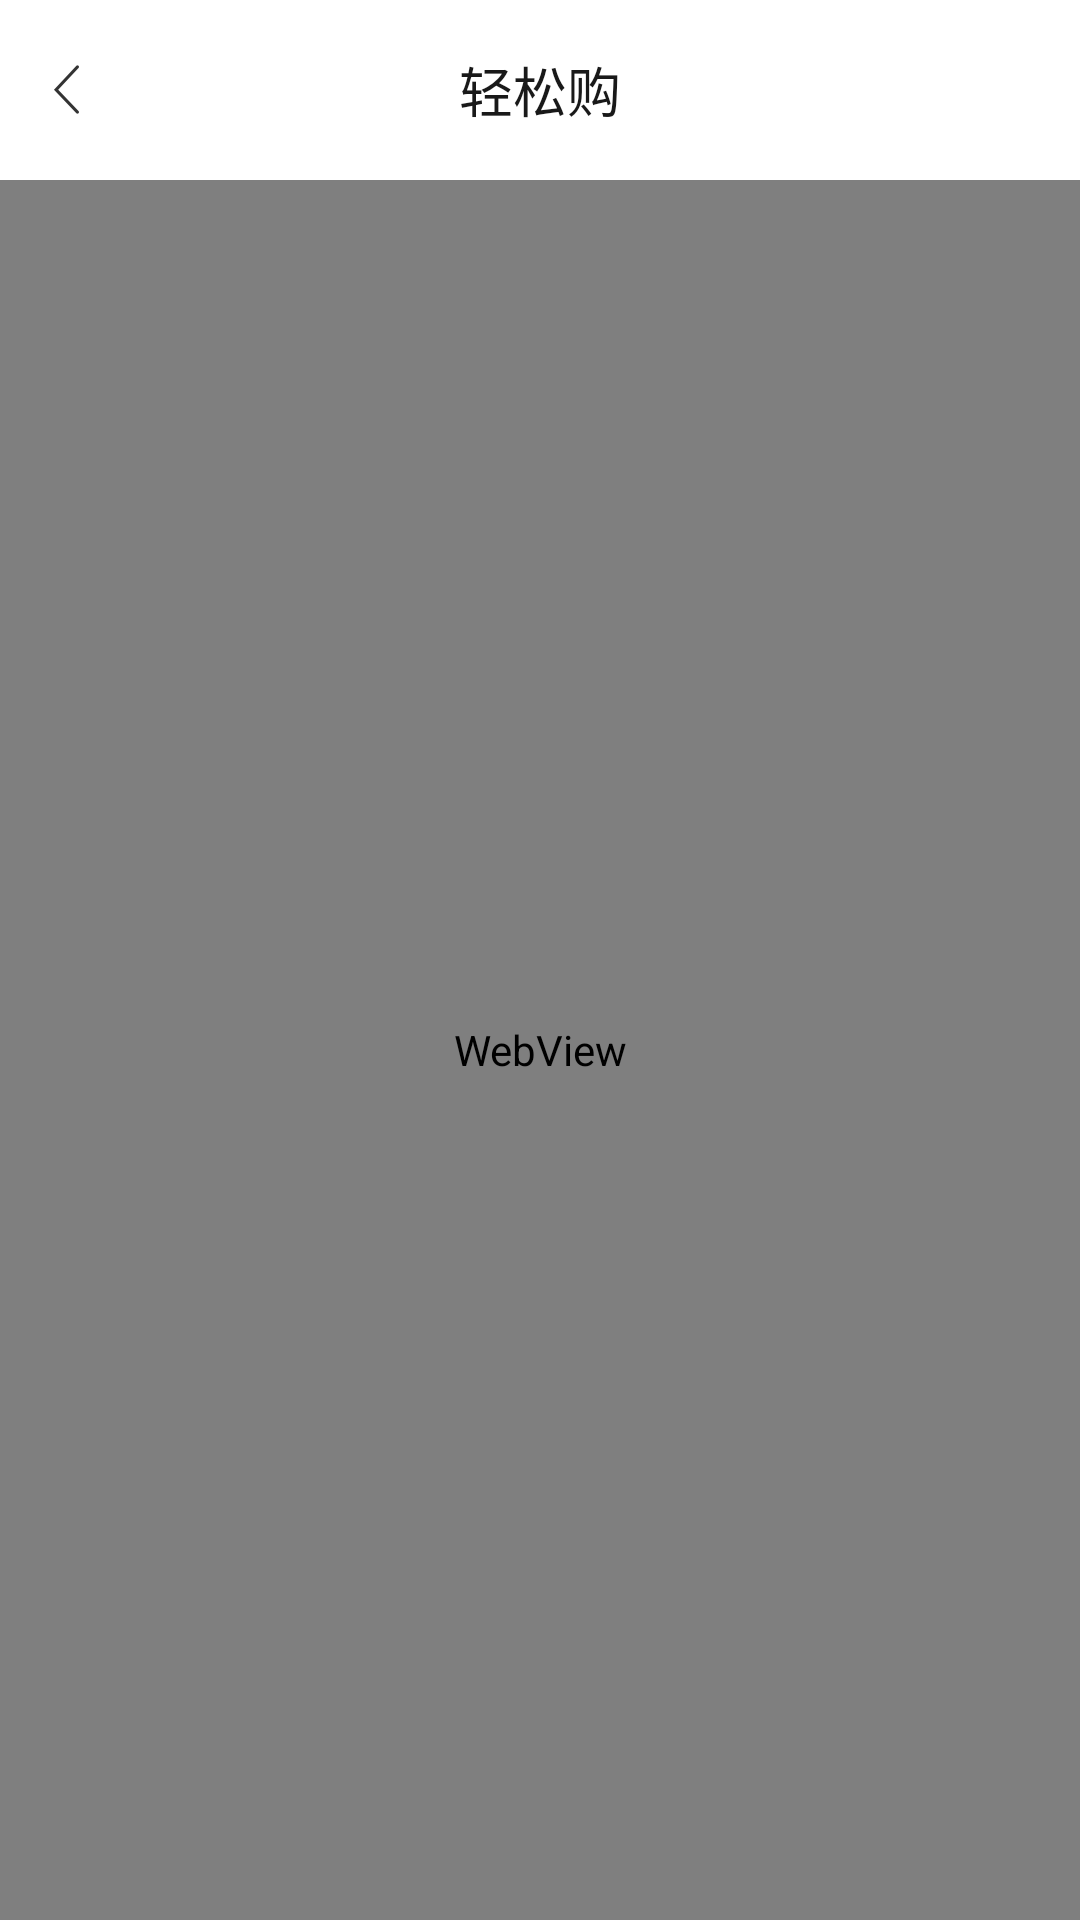

Named icons in this screenshot (1080×1920) and their bounding boxes, (x1,y1,x2,y2):
back: (54,65,79,114)
